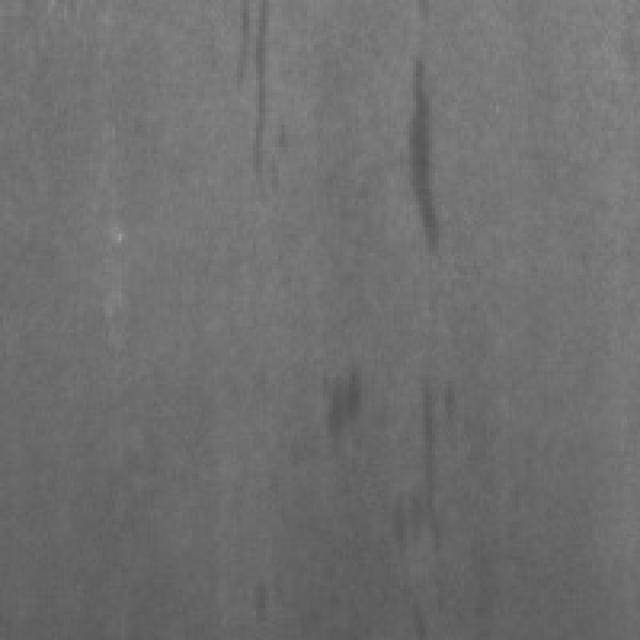inclusion: (394, 365, 474, 563), (390, 42, 458, 266), (224, 0, 291, 198), (317, 352, 374, 451)
